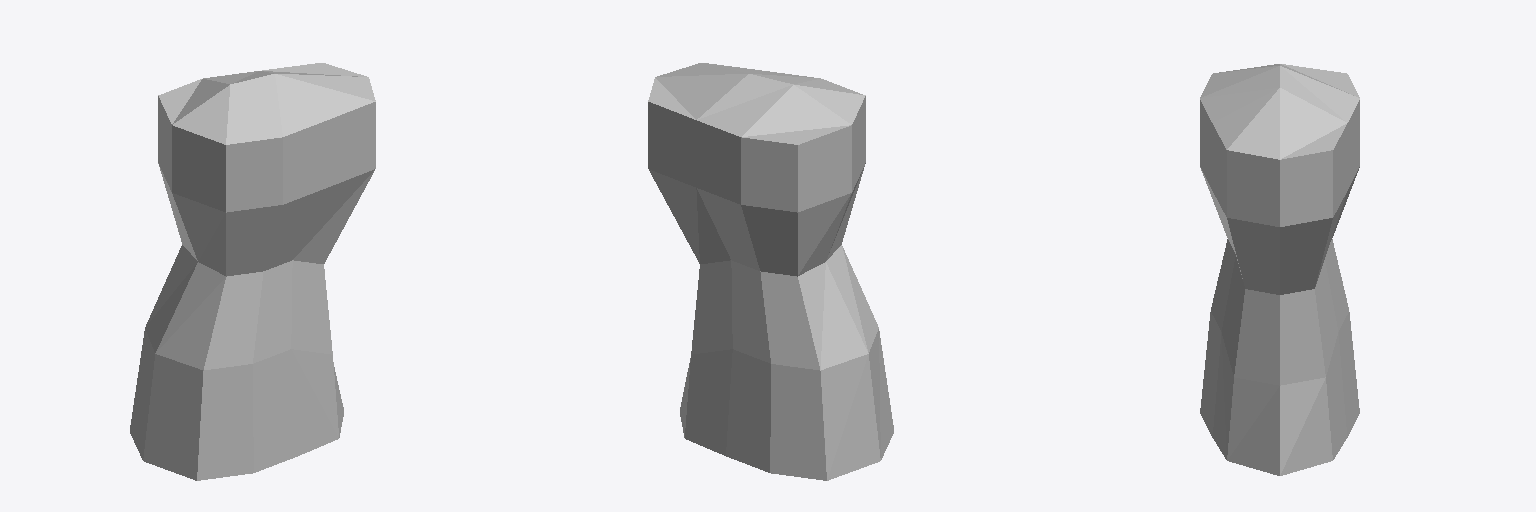
File: rock_structures_2.obj
3 renders of one model, left to right at view 1: azimuth 30°, elevation 25°; view 2: azimuth 150°, elevation 25°; view 3: azimuth 270°, elevation 25°, orthographic.
Visible parts, largest first — view 1: Plane.002; view 2: Plane.002; view 3: Plane.002.
Part boxes in pixels (bbox=[...]): Plane.002: bbox=[130, 63, 375, 480]; Plane.002: bbox=[648, 63, 893, 480]; Plane.002: bbox=[1200, 64, 1359, 475].
Size of the model in its own units: 7.09 by 10.66 by 4.37.